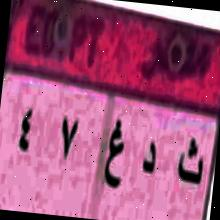4: (12, 98, 39, 165)
7: (56, 109, 82, 169)
daal: (136, 136, 160, 191)
ghayn: (98, 111, 132, 200)
thaa: (173, 127, 209, 207)
